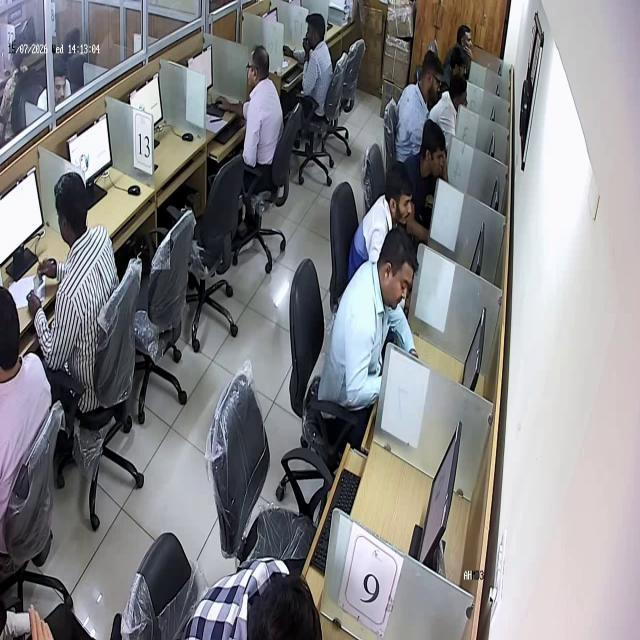paper-chit: (31, 271, 46, 303)
